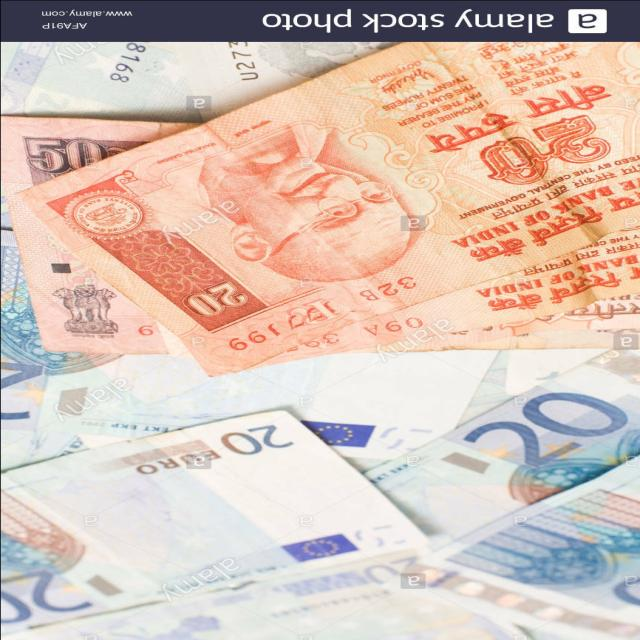20IndianRupees: (45, 39, 640, 375)
